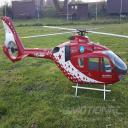helicopter: (2, 17, 128, 103)
